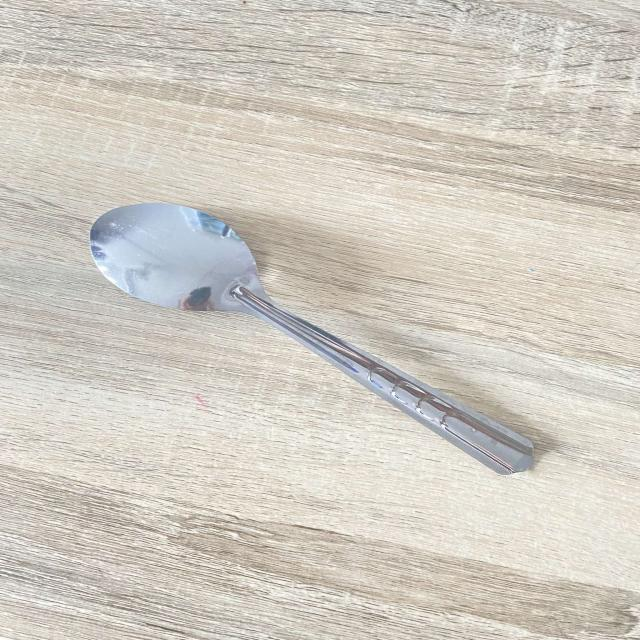spoon: (81, 197, 552, 480)
